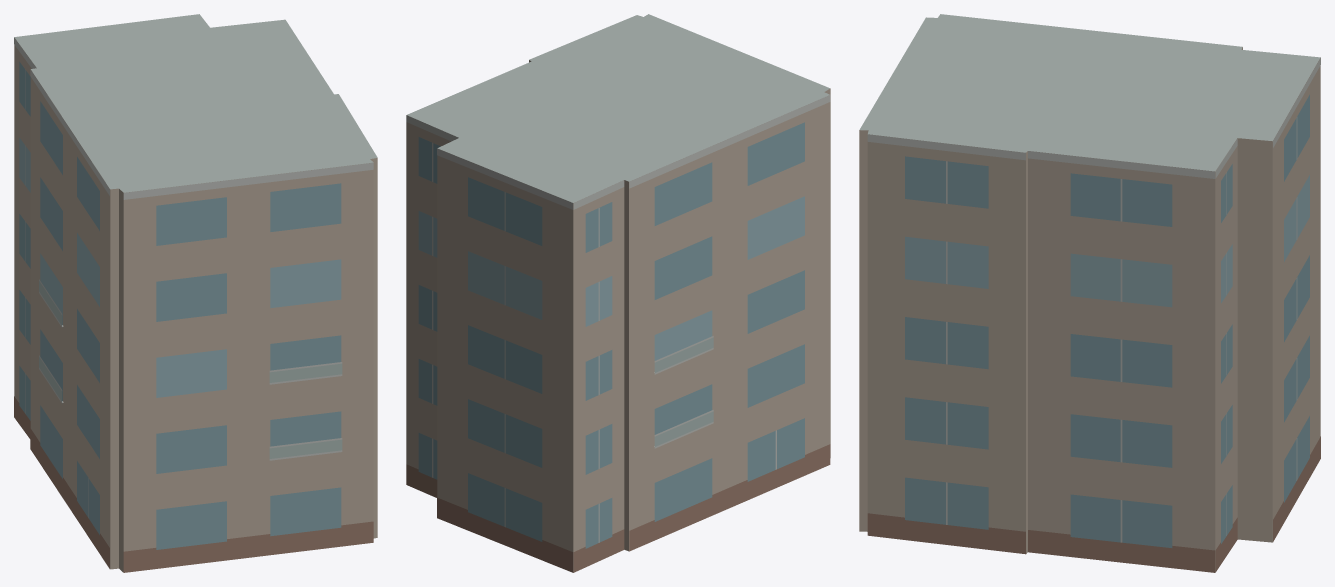
File: survey-upis-32803012.glb
The picture shows the model from 3 angles, left to right: view 1: azimuth 30°, elevation 25°; view 2: azimuth 150°, elevation 25°; view 3: azimuth 270°, elevation 25°; orthographic projection. The views are drawn at different scales.
Visible parts, largest first — view 1: survey-upis-32803012.tmp; view 2: survey-upis-32803012.tmp; view 3: survey-upis-32803012.tmp.
Boxes of the visible parts, bbox=[...] form: survey-upis-32803012.tmp: bbox=[14, 14, 377, 572]; survey-upis-32803012.tmp: bbox=[406, 14, 830, 572]; survey-upis-32803012.tmp: bbox=[859, 14, 1320, 572].
Size of the model in its own units: 10.86 by 12.9 by 13.45.
